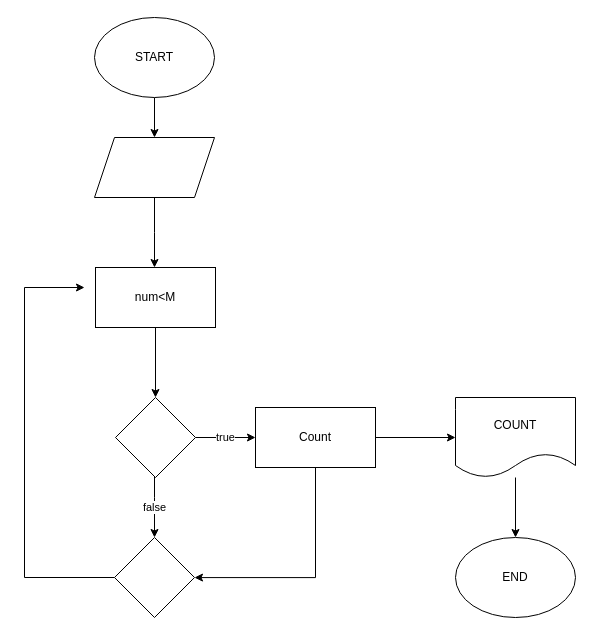
Some shapes in this 593 by 635 pixel diagram are drawn without their labels. The shapes that lost their labels are listed below. From the top down, each one's centre as x and y in pixels, then its label:
At (x=154, y=167): "M COUNT=0".
At (x=155, y=437): "num%15==0".
At (x=154, y=577): "NUM++".
